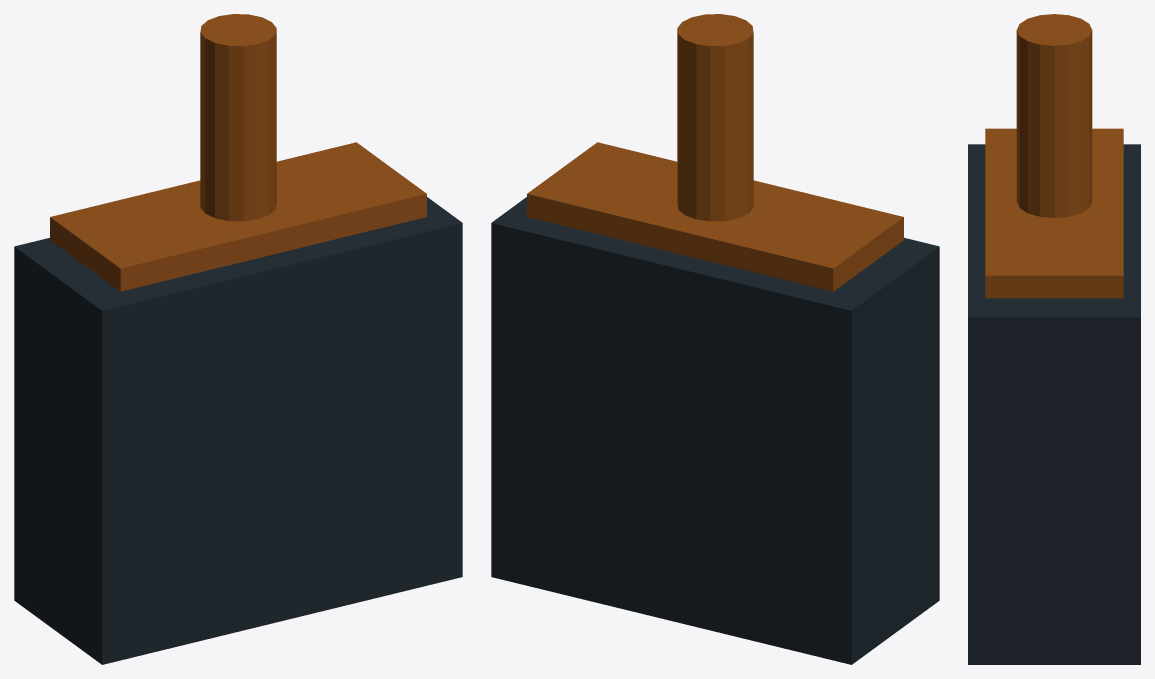
File: inspection_mat.obj
3 views of the same model, side by side, from view 1: azimuth 30°, elevation 25°; view 2: azimuth 150°, elevation 25°; view 3: azimuth 270°, elevation 25° (orthographic).
Visible parts, largest first — view 1: painted_metal, brass; view 2: painted_metal, brass; view 3: painted_metal, brass.
Boxes of the visible parts, left/top/right/bottom form: painted_metal: left=14, top=197, right=462, bottom=664; brass: left=50, top=14, right=426, bottom=291; painted_metal: left=491, top=197, right=939, bottom=664; brass: left=527, top=14, right=903, bottom=291; painted_metal: left=968, top=144, right=1140, bottom=664; brass: left=985, top=14, right=1123, bottom=298.
Bounding box in the file's own units: 1.3 × 1.92 × 0.55.
